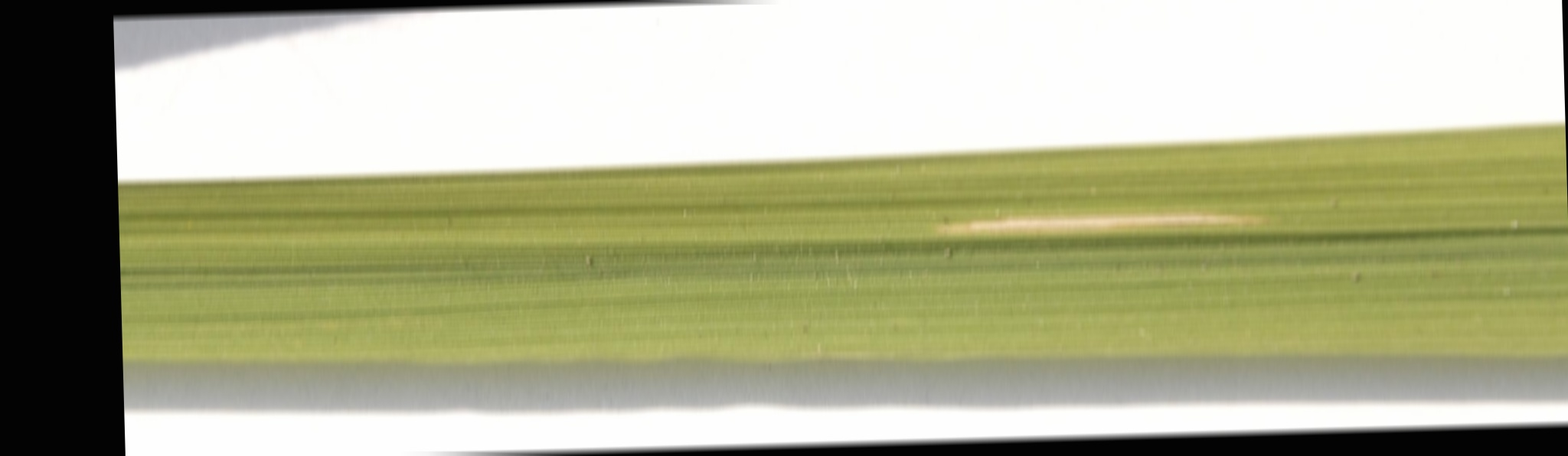Leaf_Blast: (715, 177, 1385, 291)
